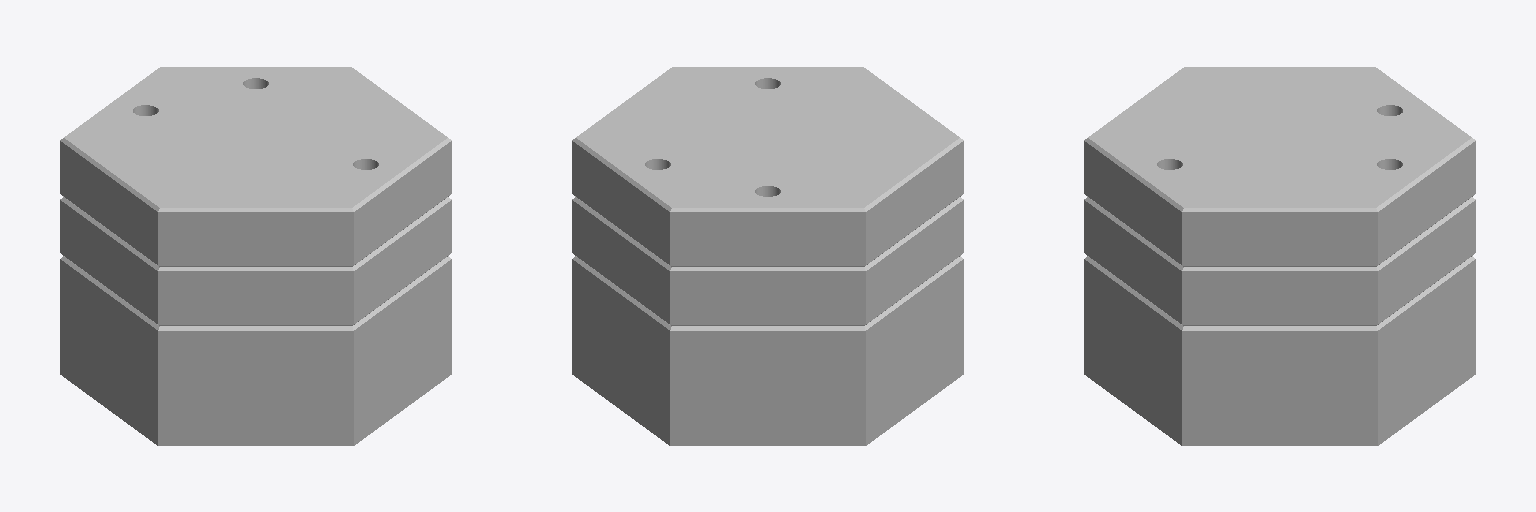
File: lvl3D.obj
The picture shows the model from 3 angles: view 1: azimuth 30°, elevation 25°; view 2: azimuth 150°, elevation 25°; view 3: azimuth 270°, elevation 25°; orthographic projection.
Visible parts, largest first — view 1: Lvl3D-3_(Mono-NoMags); view 2: Lvl3D-3_(Mono-NoMags); view 3: Lvl3D-3_(Mono-NoMags).
Part boxes in pixels (x1,y1,x2,y2): Lvl3D-3_(Mono-NoMags): (60, 67, 451, 445); Lvl3D-3_(Mono-NoMags): (572, 67, 963, 445); Lvl3D-3_(Mono-NoMags): (1084, 67, 1475, 445).
Size of the model in its own units: 3.13 by 2.41 by 3.62.